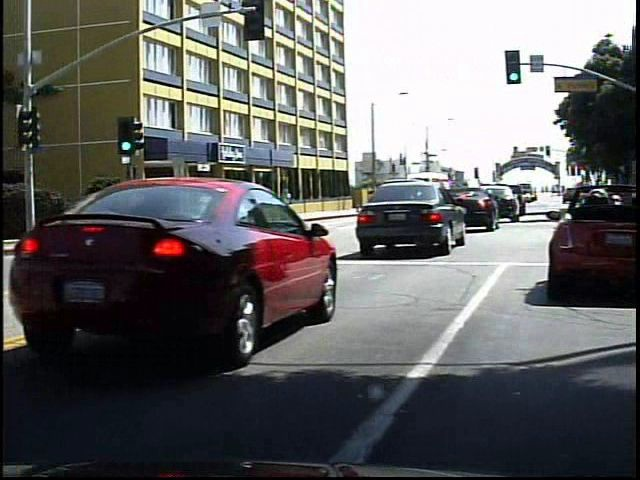person: (277, 184, 291, 211)
